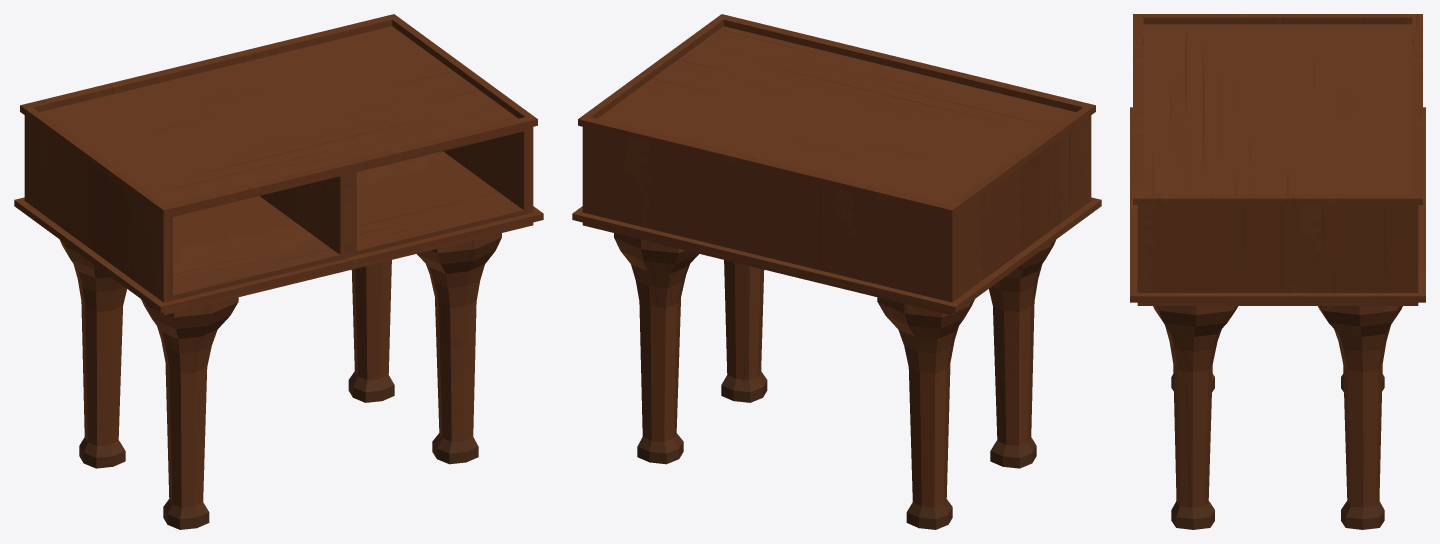
File: Drawer.fbx
The picture shows the model from 3 angles, left to right: view 1: azimuth 30°, elevation 25°; view 2: azimuth 150°, elevation 25°; view 3: azimuth 270°, elevation 25°; orthographic projection.
Visible parts, largest first — view 1: Drawer_A.002; view 2: Drawer_A.002; view 3: Drawer_A.002.
Part boxes in pixels (box(x1,y1,x2,y2)): Drawer_A.002: box(14, 14, 543, 529); Drawer_A.002: box(572, 14, 1101, 529); Drawer_A.002: box(1130, 14, 1425, 529).
Bounding box in the file's own units: 2522 × 2167 × 1670.
1 material, 1 textured.
